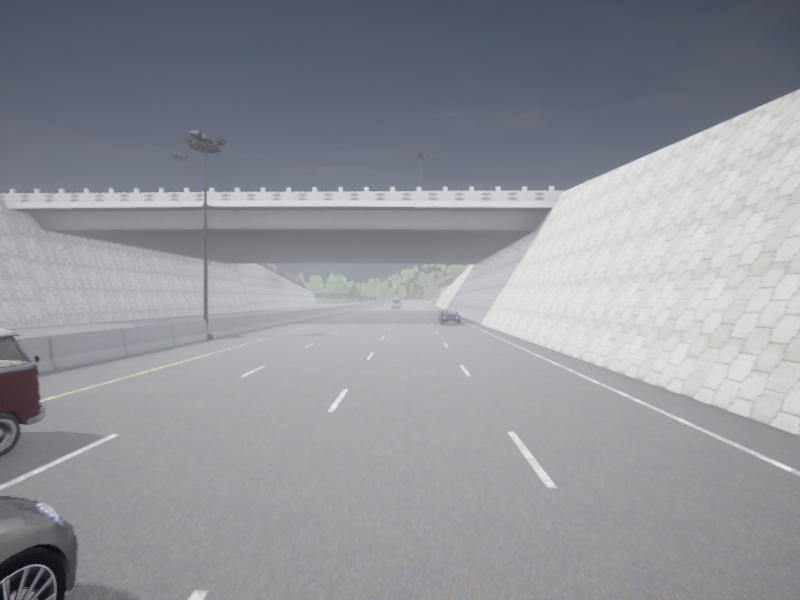vehicle: (0, 496, 76, 599), (0, 328, 45, 457), (438, 310, 460, 323), (392, 298, 401, 308)
